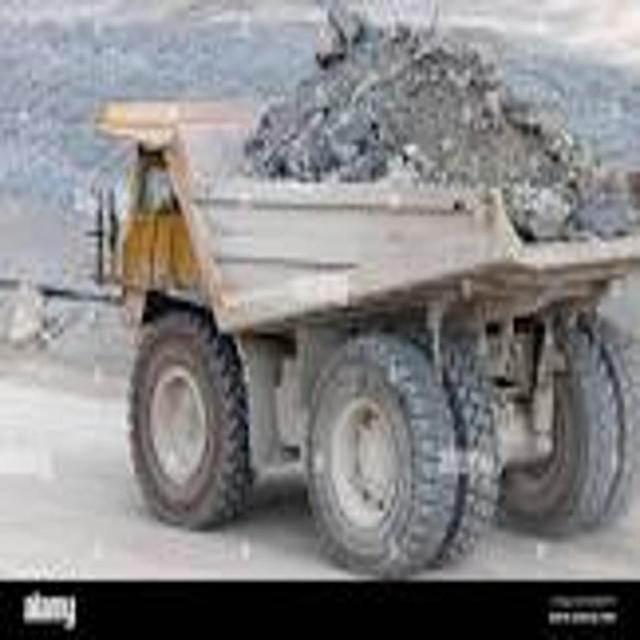dump_truck: (93, 17, 639, 582)
